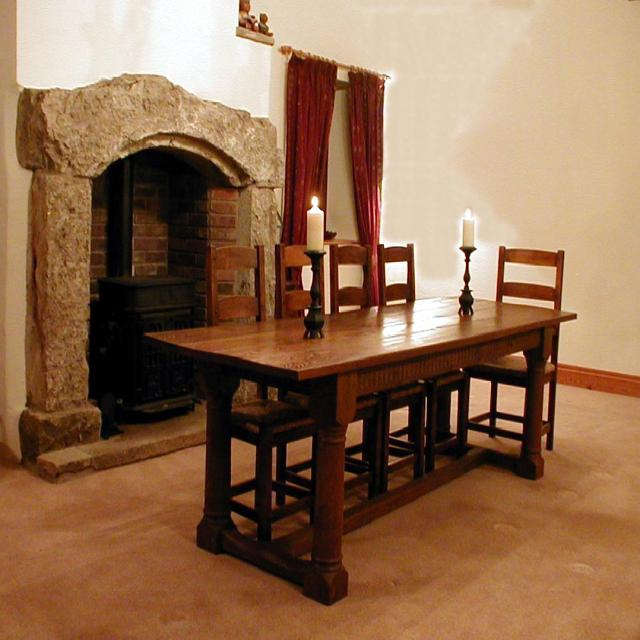table: (145, 288, 584, 611)
